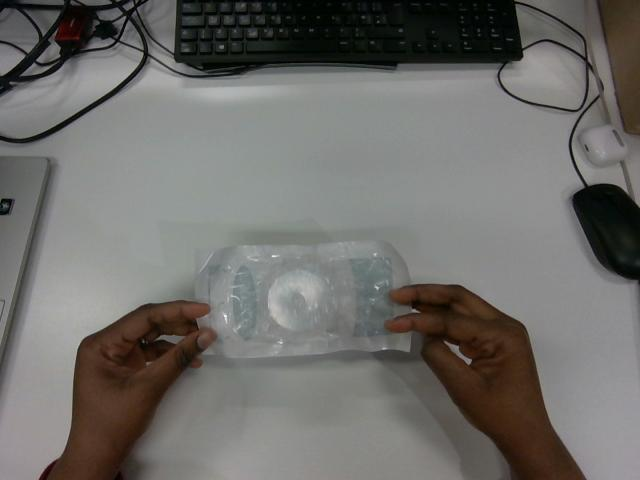gallipot: (196, 241, 410, 356)
